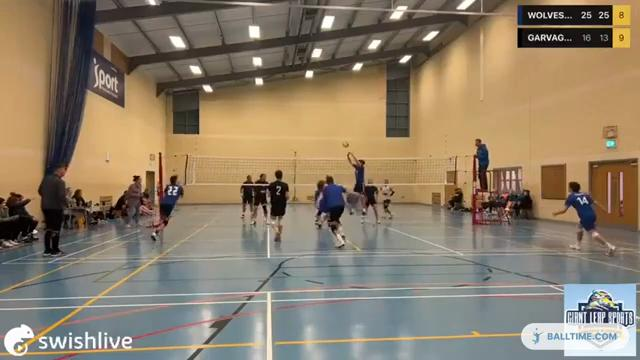Player: (553, 182, 615, 255), (151, 175, 183, 240), (320, 175, 346, 247), (269, 170, 288, 241), (251, 173, 268, 224), (361, 179, 379, 223), (240, 175, 253, 218), (381, 179, 394, 218), (314, 180, 324, 228)
Set: (342, 150, 369, 214)
ball: (341, 140, 350, 148)
